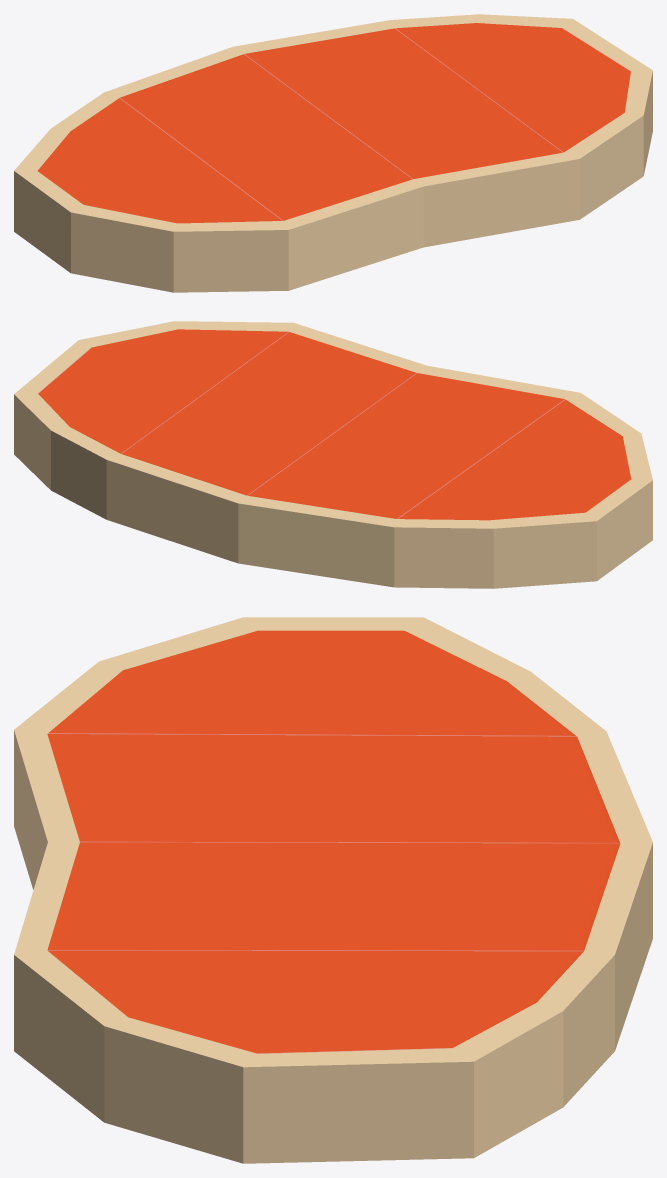
Rendered from Steak.fbx.
3 views of the same model, one above another, from view 1: azimuth 30°, elevation 25°; view 2: azimuth 150°, elevation 25°; view 3: azimuth 270°, elevation 25° (orthographic). The views are drawn at different scales.
Parts seen in each view (by area): view 1: kp_steak1; view 2: kp_steak1; view 3: kp_steak1.
Part boxes in pixels (<box>): kp_steak1: <box>14,14,652,292</box>; kp_steak1: <box>14,321,652,588</box>; kp_steak1: <box>14,617,652,1163</box>.
Bounding box in the file's own units: 20 × 2 × 12.
